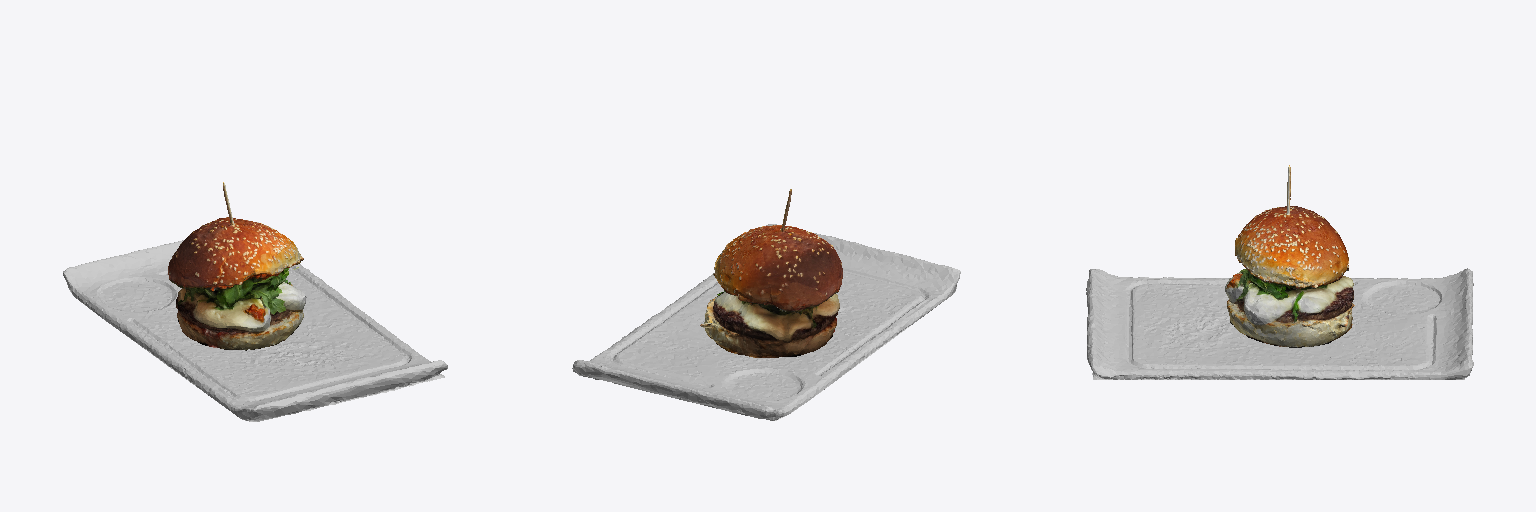
3 views of the same model, side by side, from view 1: azimuth 30°, elevation 25°; view 2: azimuth 150°, elevation 25°; view 3: azimuth 270°, elevation 25° (orthographic).
Visible parts, largest first — view 1: mmGroup0; view 2: mmGroup0; view 3: mmGroup0.
Boxes of the visible parts, x1,y1,x2,y2 form: mmGroup0: [63, 182, 447, 421]; mmGroup0: [572, 189, 960, 420]; mmGroup0: [1086, 165, 1473, 379].
Size of the model in its own units: 0.1827 by 0.1318 by 0.3001.
Materials: 2 (1 with a texture image).